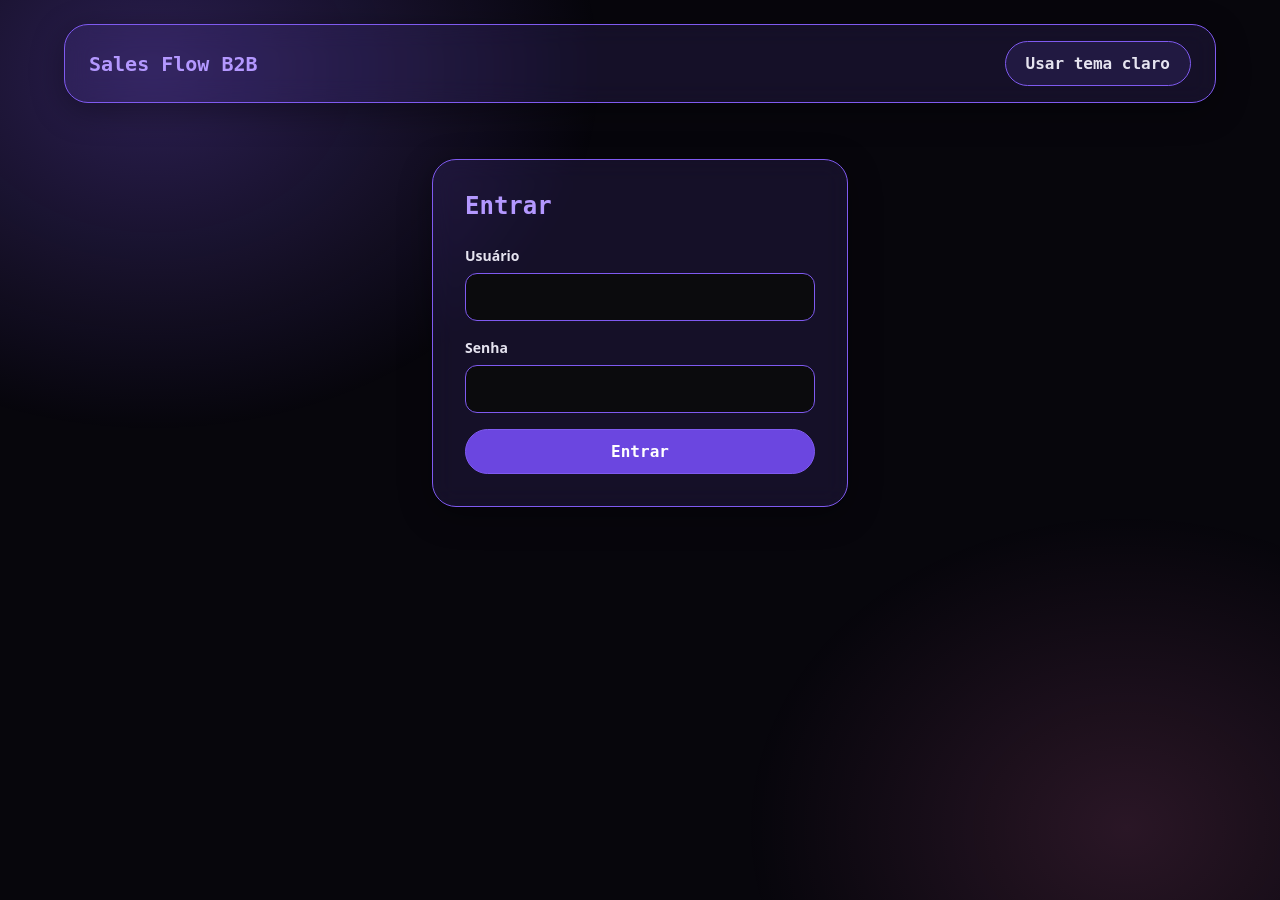
Test: LoginPage › logs in with the typed credentials and goes to the dashboard
In the field labelled "Usuário": point(640, 297) [465,273,815,321], type "alice"
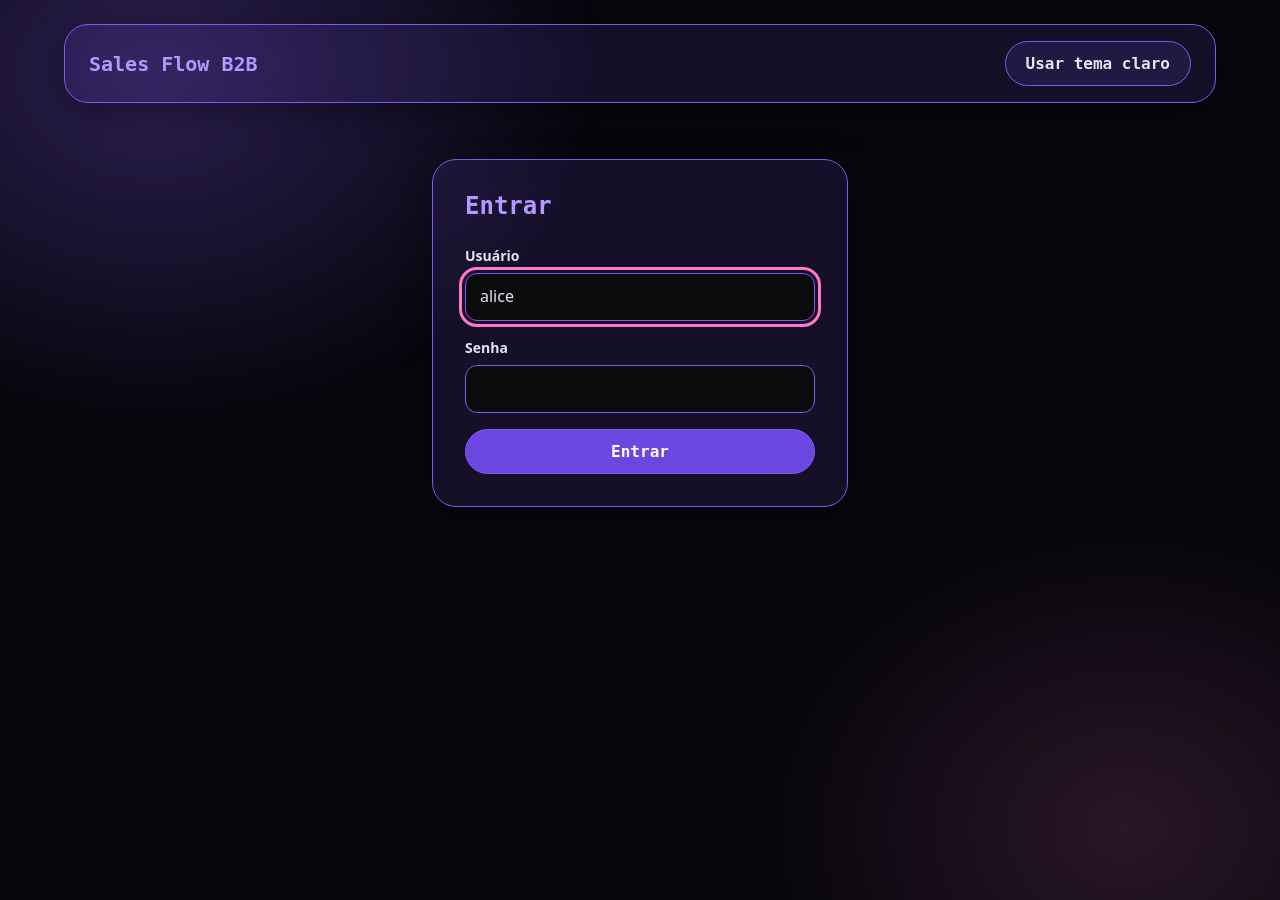
In the password field labelled "Senha": point(640, 389) [465,365,815,413], type "secret-pass"
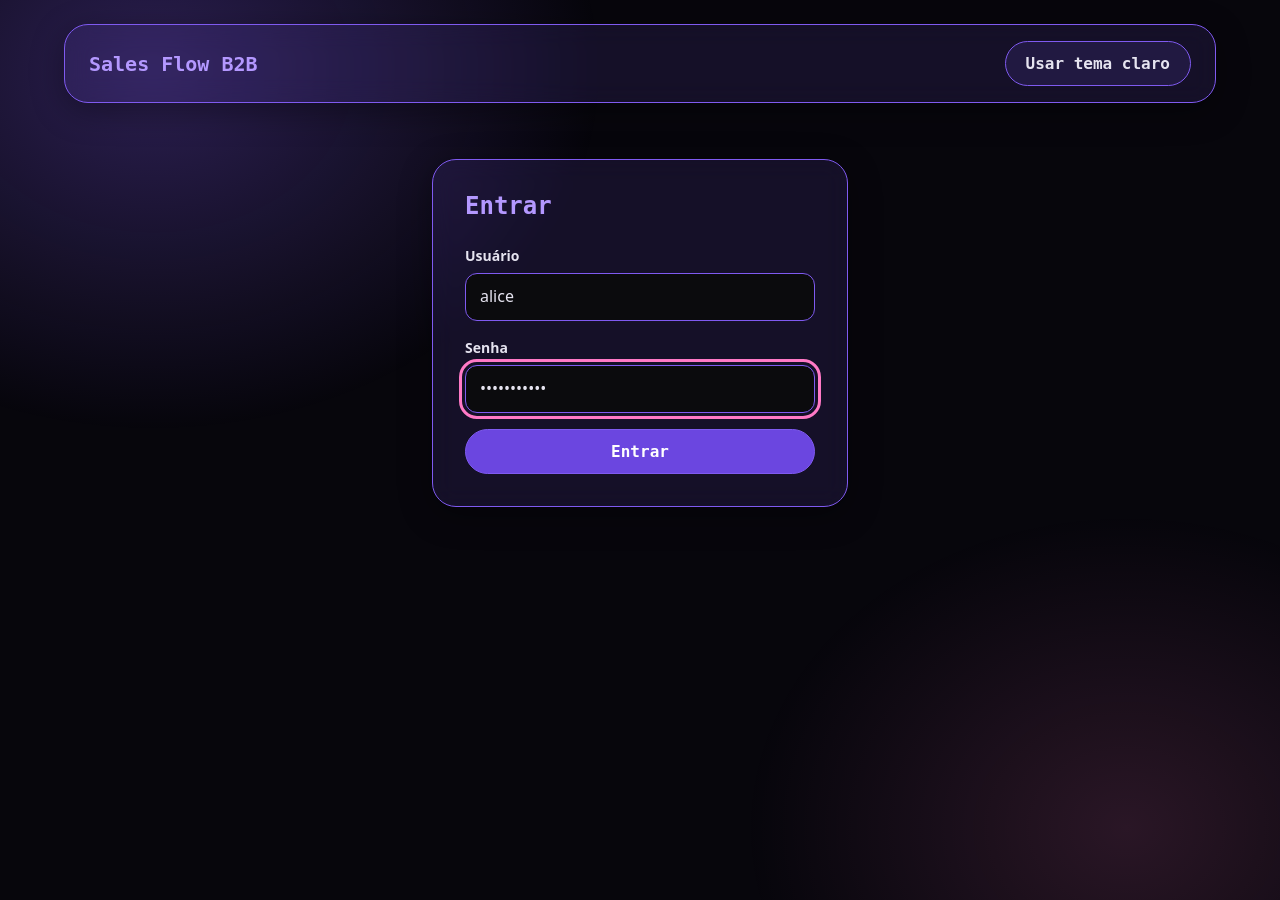
Click the button "Entrar": point(640, 451) [465,429,815,474]
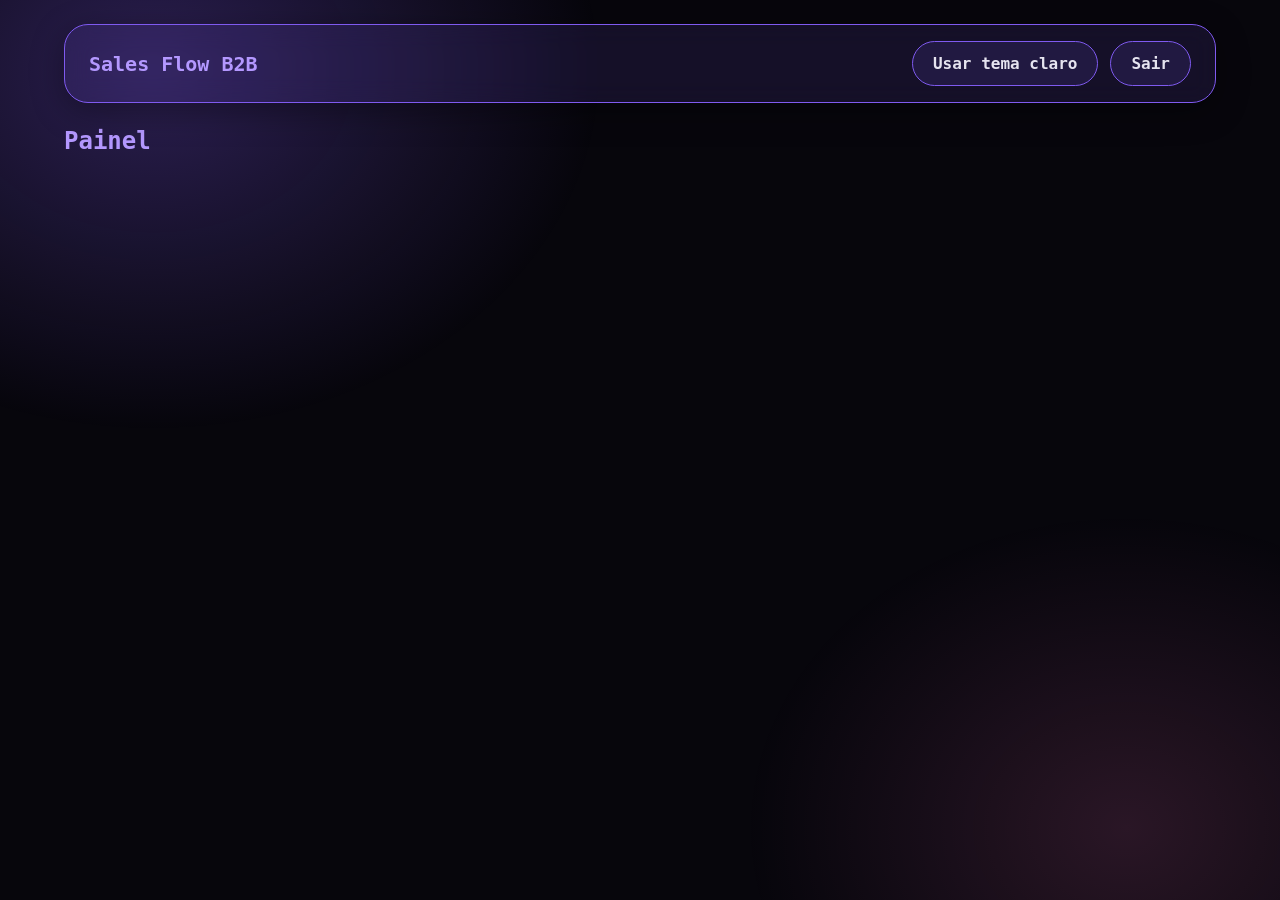
Now the heading "Painel" is shown, box [64,127,151,155]
